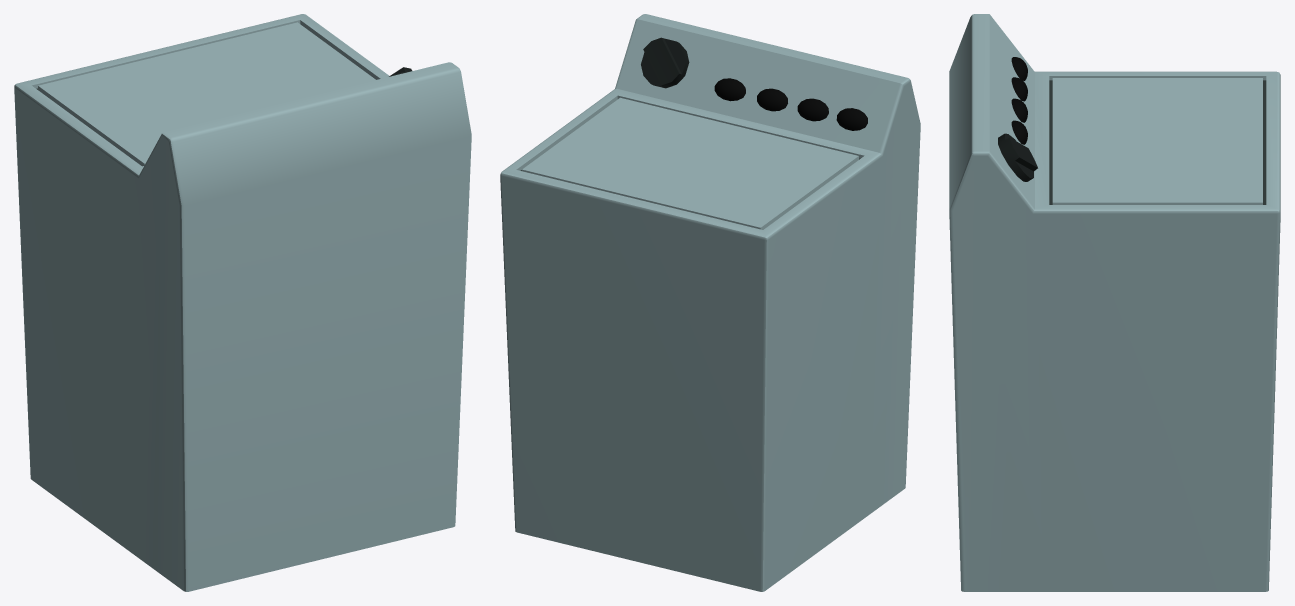
File: Washing Machine.fbx
3 views of the same model, side by side, from view 1: azimuth 30°, elevation 25°; view 2: azimuth 150°, elevation 25°; view 3: azimuth 270°, elevation 25° (orthographic). The views are drawn at different scales.
Visible parts, largest first — view 1: pasted__pSphere23; view 2: pasted__pSphere23; view 3: pasted__pSphere23.
Boxes of the visible parts, box(x1,y1,x2,y2) form: pasted__pSphere23: box(14, 14, 471, 591); pasted__pSphere23: box(500, 14, 920, 591); pasted__pSphere23: box(949, 14, 1280, 591).
Size of the model in its own units: 2.42 by 3.58 by 2.42.
